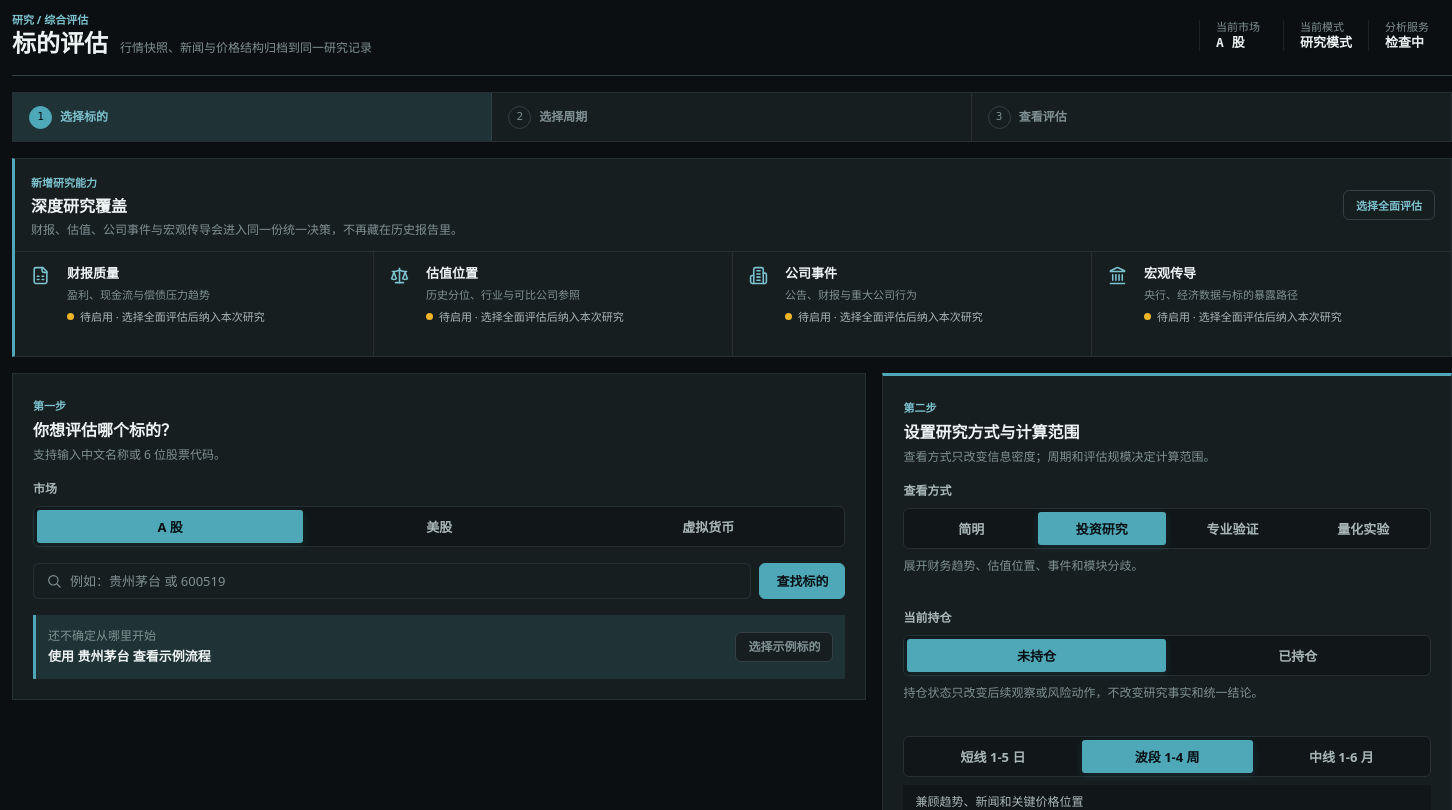
Test: StockEvaluationStartPage › makes the four deep-research modules visible before a task is started
Expected: the text "财报质量" is shown, [67,264,119,282]
Expected: the text "估值位置" is shown, [426,264,478,282]
Click the button "选择全面评估" at (1389, 205), box [1343,190,1435,220]
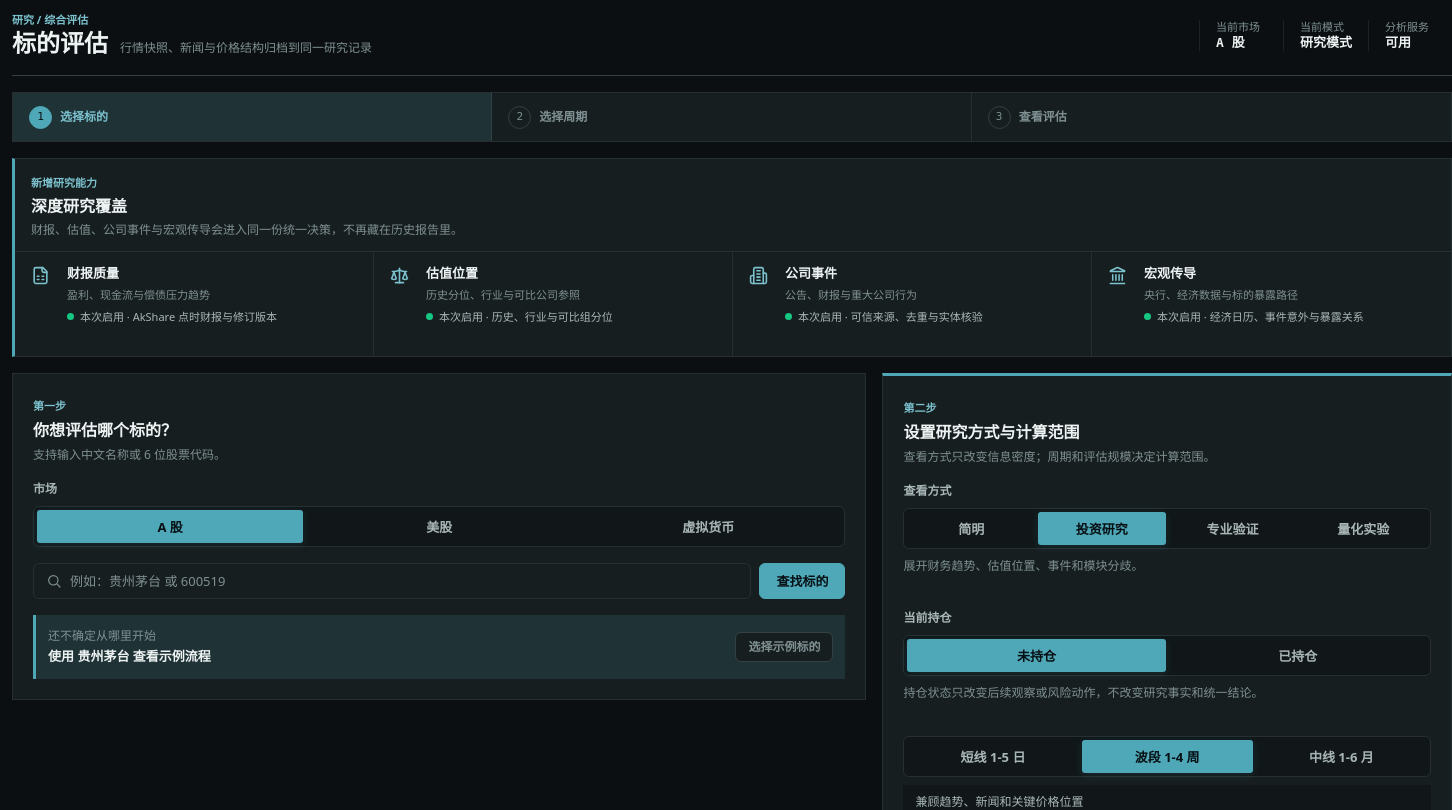
Expected: the text "本次启用 · AkShare 点时财报与修订版本" is shown 4 times, [67,309,277,324]; [426,309,613,324]; [785,309,983,324]; [1144,309,1364,324]
